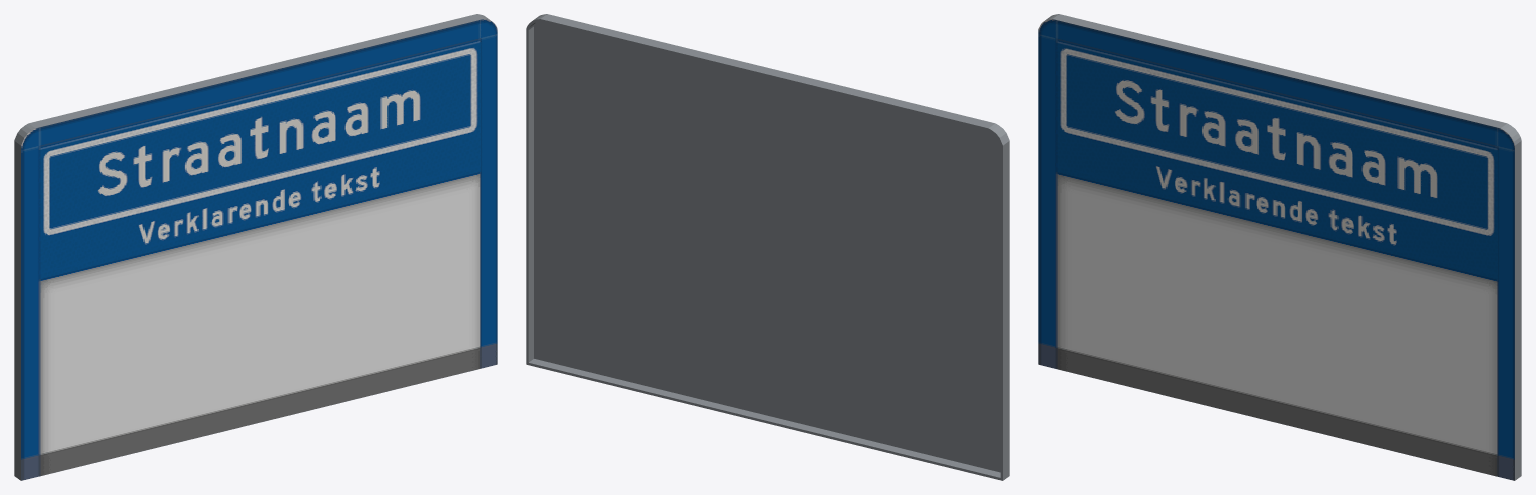
3 renders of one model, left to right at view 1: azimuth 30°, elevation 25°; view 2: azimuth 150°, elevation 25°; view 3: azimuth 330°, elevation 25°, orthographic.
Visible parts, largest first — view 1: cat_3280d468bae74eaa; view 2: cat_3280d468bae74eaa; view 3: cat_3280d468bae74eaa.
Boxes of the visible parts, <box> form: cat_3280d468bae74eaa: <box>14,14,497,480</box>; cat_3280d468bae74eaa: <box>526,14,1009,480</box>; cat_3280d468bae74eaa: <box>1038,14,1521,480</box>.
Size of the model in its own units: 0.6 by 0.015 by 0.4199.
Materials: 2 (1 with a texture image).
